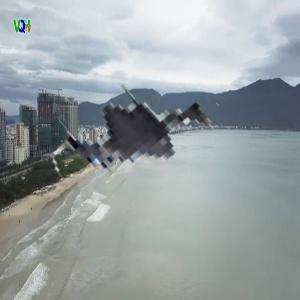drone: (49, 45, 266, 262)
